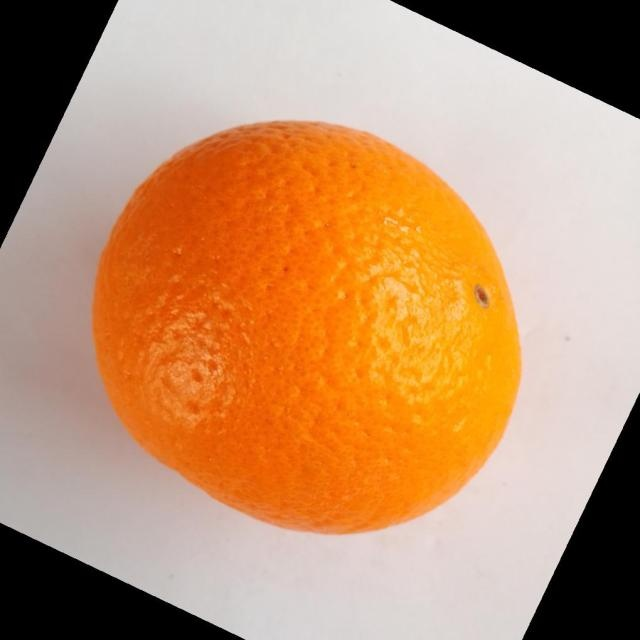agrume: (90, 118, 523, 535)
